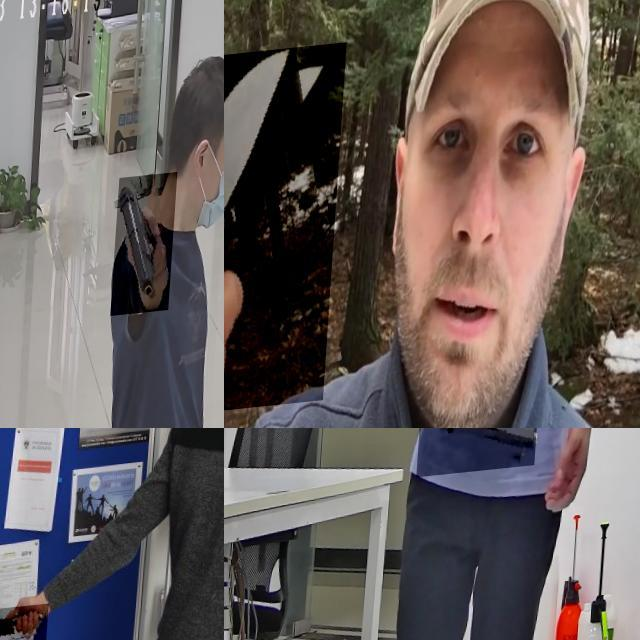-: (224, 48, 370, 428), (0, 611, 53, 640)
gun-knife-thesis - v11 Yolov5 augmented: (421, 428, 547, 508), (115, 178, 180, 321)
